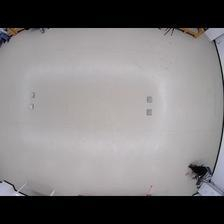fall: (185, 162, 214, 190)
